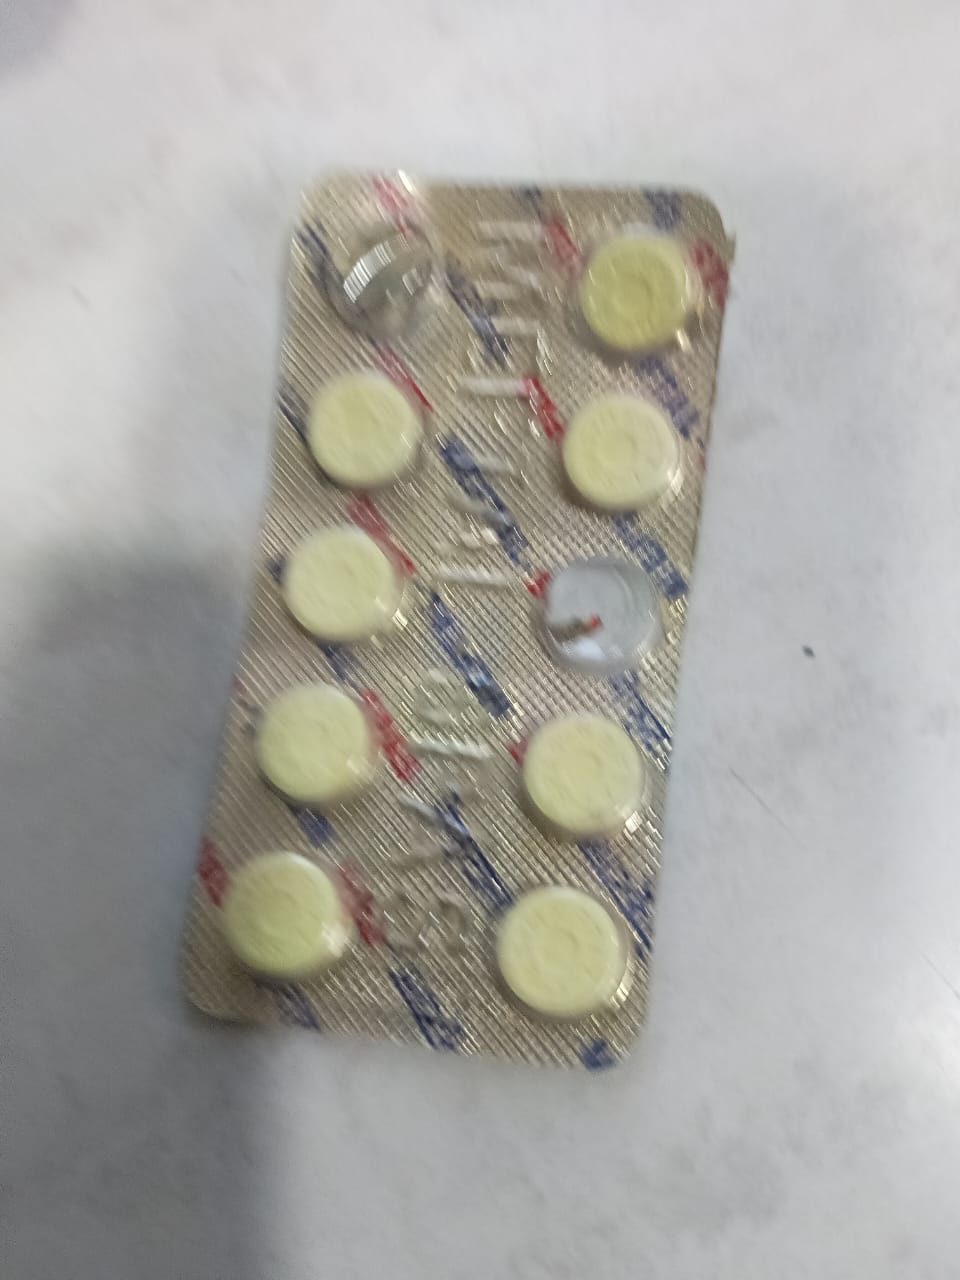Meftal SPAS: (541, 381, 683, 527), (241, 671, 385, 807), (497, 867, 621, 1024), (571, 208, 698, 355), (221, 849, 355, 987), (278, 516, 400, 650), (299, 357, 427, 484), (523, 712, 641, 834)
